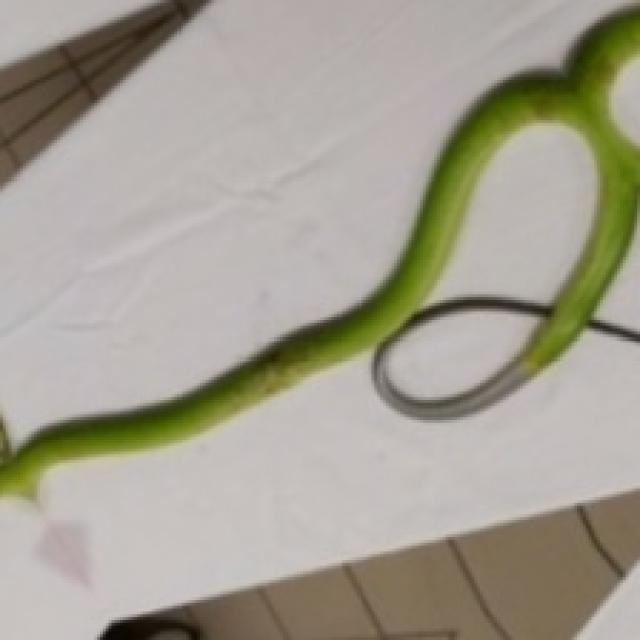red-tailed green ratsnake: (0, 7, 640, 496)
